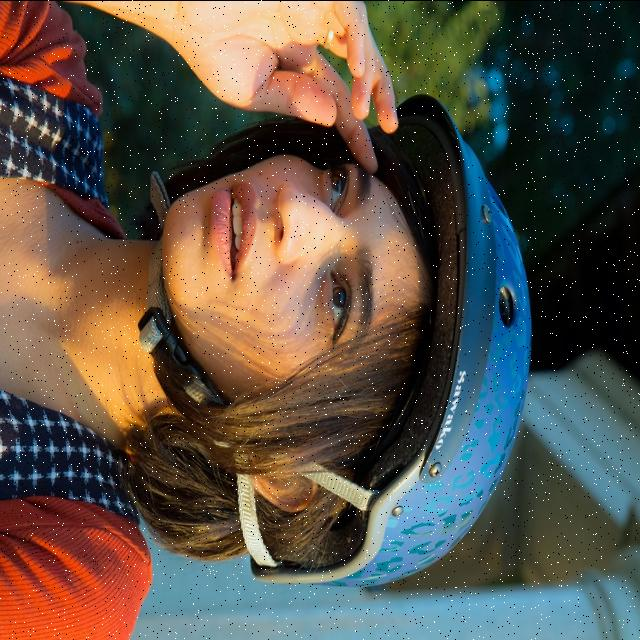Helmet: (238, 93, 531, 585)
